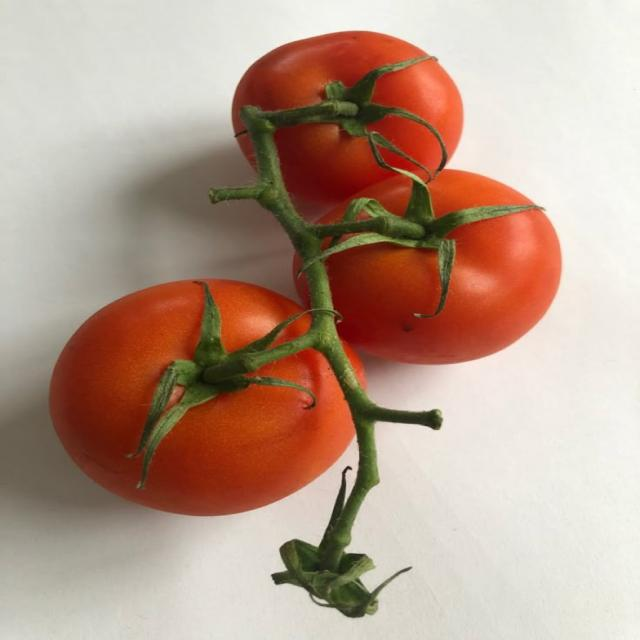tomato: (50, 281, 353, 515), (327, 210, 560, 364), (233, 31, 425, 132)
